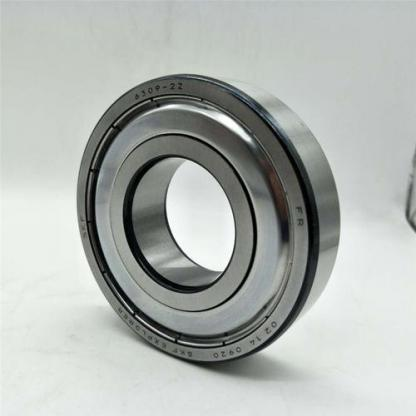FOD: (70, 71, 345, 372)
